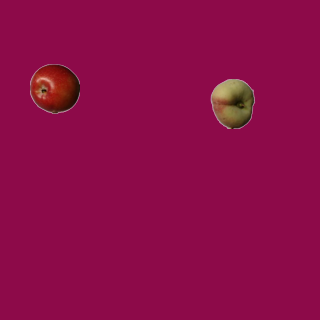Apple Braeburn: (29, 63, 79, 113)
Peach Flat: (207, 78, 257, 128)
